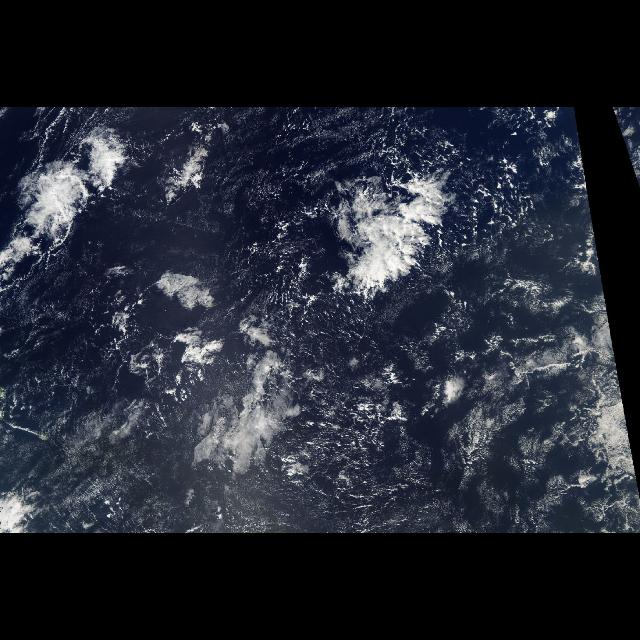Fish: (272, 157, 500, 327)
Flower: (19, 138, 115, 266), (342, 180, 436, 304)
Sugar: (1, 274, 180, 530), (213, 121, 335, 365), (375, 329, 579, 466)
